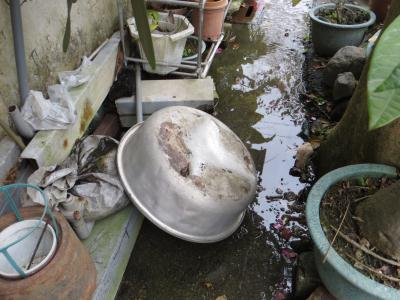bowl: (115, 102, 261, 248)
plastic_bag: (31, 134, 131, 235), (15, 54, 90, 130)
